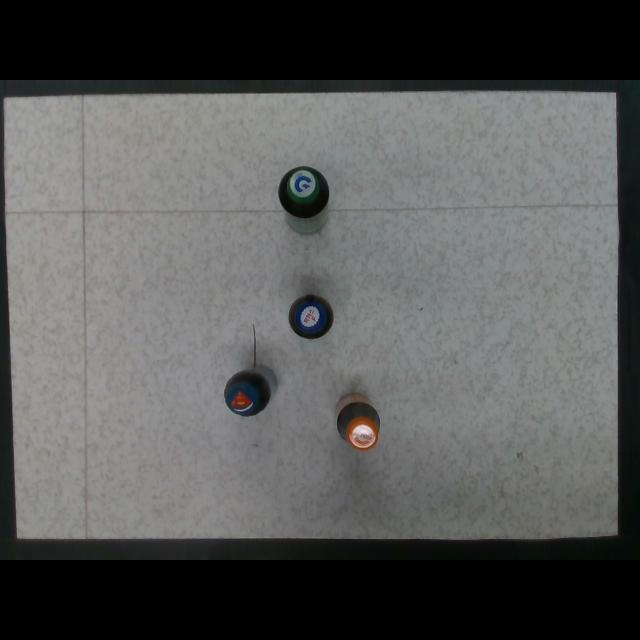energdrink: (279, 166, 330, 234), (223, 366, 276, 416), (337, 396, 380, 450), (289, 295, 334, 338)
